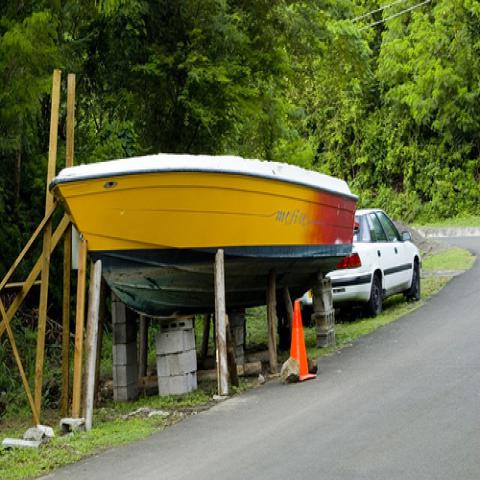car: (332, 208, 424, 320)
